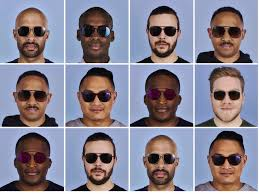g.y: (80, 25, 94, 39)
